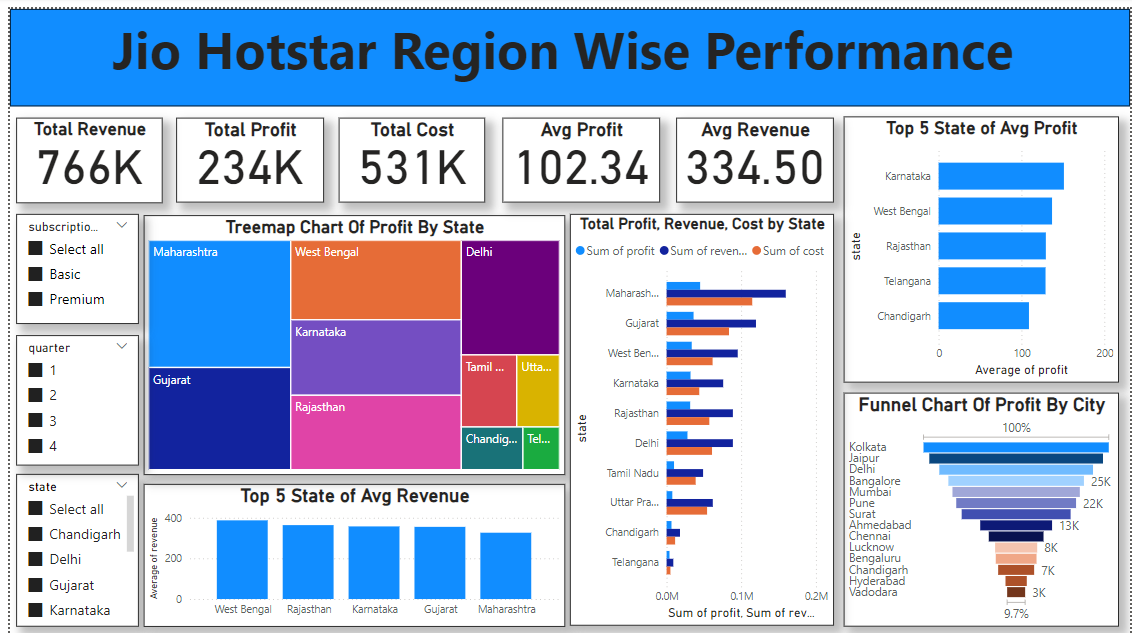

What the dashboard file says about the page in this screenshot:
{"tool":"powerbi","page":{"name":"Page 2","canvas":[1280,720],"ordinal":1},"visuals":[{"type":"slicer","fields":{"Values":["public customer.state"]},"box":[7.1,531.4,140,174.3],"z":0},{"type":"card","title":"Total Profit","fields":{"Values":["Sum(public sales.profit)"]},"box":[190,124.3,168.6,97.1],"z":1000},{"type":"card","title":"Total Revenue","fields":{"Values":["Sum(public sales.revenue)"]},"box":[7.5,124.4,167.3,97.7],"z":2000},{"type":"card","title":"Total Cost","fields":{"Values":["Sum(public sales.cost)"]},"box":[375.7,124.3,167.1,97.1],"z":3000},{"type":"clusteredColumnChart","title":"Top 5 State of Avg Revenue","fields":{"Y":["Avg(public sales.revenue)"],"Category":["public customer.state"]},"box":[152.4,542.9,481.4,162.9],"z":4000},{"type":"filledMap","title":"Treemap Chart Of Profit By State","fields":{"Category":["public customer.city"],"Series":["public sales.profit"]},"box":[152.4,235.7,481.4,297.1],"z":5000},{"type":"clusteredBarChart","title":"Top 5 State of Avg Profit","fields":{"Category":["public customer.state"],"Y":["Avg(public sales.profit)"]},"box":[952.9,122.9,314.3,304.3],"z":6000},{"type":"textbox","box":[0,0,1280.3,111],"z":7000},{"type":"card","title":"Avg Profit","fields":{"Values":["Avg(public sales.profit)"]},"box":[562.9,124.3,180,97.1],"z":8000},{"type":"card","title":"Avg Revenue","fields":{"Values":["Avg(public sales.revenue)"]},"box":[761.4,124.3,180,97.1],"z":9000},{"type":"slicer","fields":{"Values":["public subscription.subscription_type"]},"box":[7.1,234.3,140,125.7],"z":10000},{"type":"slicer","fields":{"Values":["public sales.quarter"]},"box":[7.1,372.9,140,148.6],"z":11000},{"type":"funnel","title":"Funnel Chart Of Profit By City","fields":{"Category":["public customer.city"],"Y":["Sum(public sales.profit)"]},"box":[952.9,438.6,314.3,267.1],"z":12000},{"type":"clusteredBarChart","title":"Total Profit, Revenue, Cost by State","fields":{"Category":["public customer.state"],"Y":["Sum(public sales.profit)","Sum(public sales.revenue)","Sum(public sales.cost)"]},"box":[640,236.2,301.2,470],"z":13000}]}

Visuals, with their boxes in screenshot pixels (x1, y1, x2, y2), scaled from the page's 1280x720 canvas onto the 1132x633 screenshot:
slicer - public customer.state: {"x1": 6, "y1": 467, "x2": 130, "y2": 620}
"Total Profit" card: {"x1": 168, "y1": 109, "x2": 317, "y2": 195}
"Total Revenue" card: {"x1": 7, "y1": 109, "x2": 155, "y2": 195}
"Total Cost" card: {"x1": 332, "y1": 109, "x2": 480, "y2": 195}
"Top 5 State of Avg Revenue" clusteredColumnChart: {"x1": 135, "y1": 477, "x2": 561, "y2": 621}
"Treemap Chart Of Profit By State" filledMap: {"x1": 135, "y1": 207, "x2": 561, "y2": 468}
"Top 5 State of Avg Profit" clusteredBarChart: {"x1": 843, "y1": 108, "x2": 1121, "y2": 376}
textbox: {"x1": 0, "y1": 0, "x2": 1131, "y2": 98}
"Avg Profit" card: {"x1": 498, "y1": 109, "x2": 657, "y2": 195}
"Avg Revenue" card: {"x1": 673, "y1": 109, "x2": 833, "y2": 195}
slicer - public subscription.subscription_type: {"x1": 6, "y1": 206, "x2": 130, "y2": 316}
slicer - public sales.quarter: {"x1": 6, "y1": 328, "x2": 130, "y2": 458}
"Funnel Chart Of Profit By City" funnel: {"x1": 843, "y1": 386, "x2": 1121, "y2": 620}
"Total Profit, Revenue, Cost by State" clusteredBarChart: {"x1": 566, "y1": 208, "x2": 832, "y2": 621}
